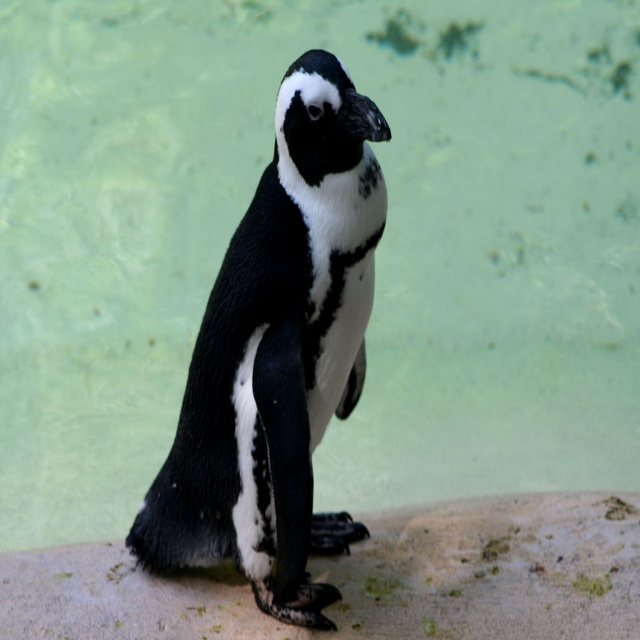Penguin: (119, 48, 397, 630)
